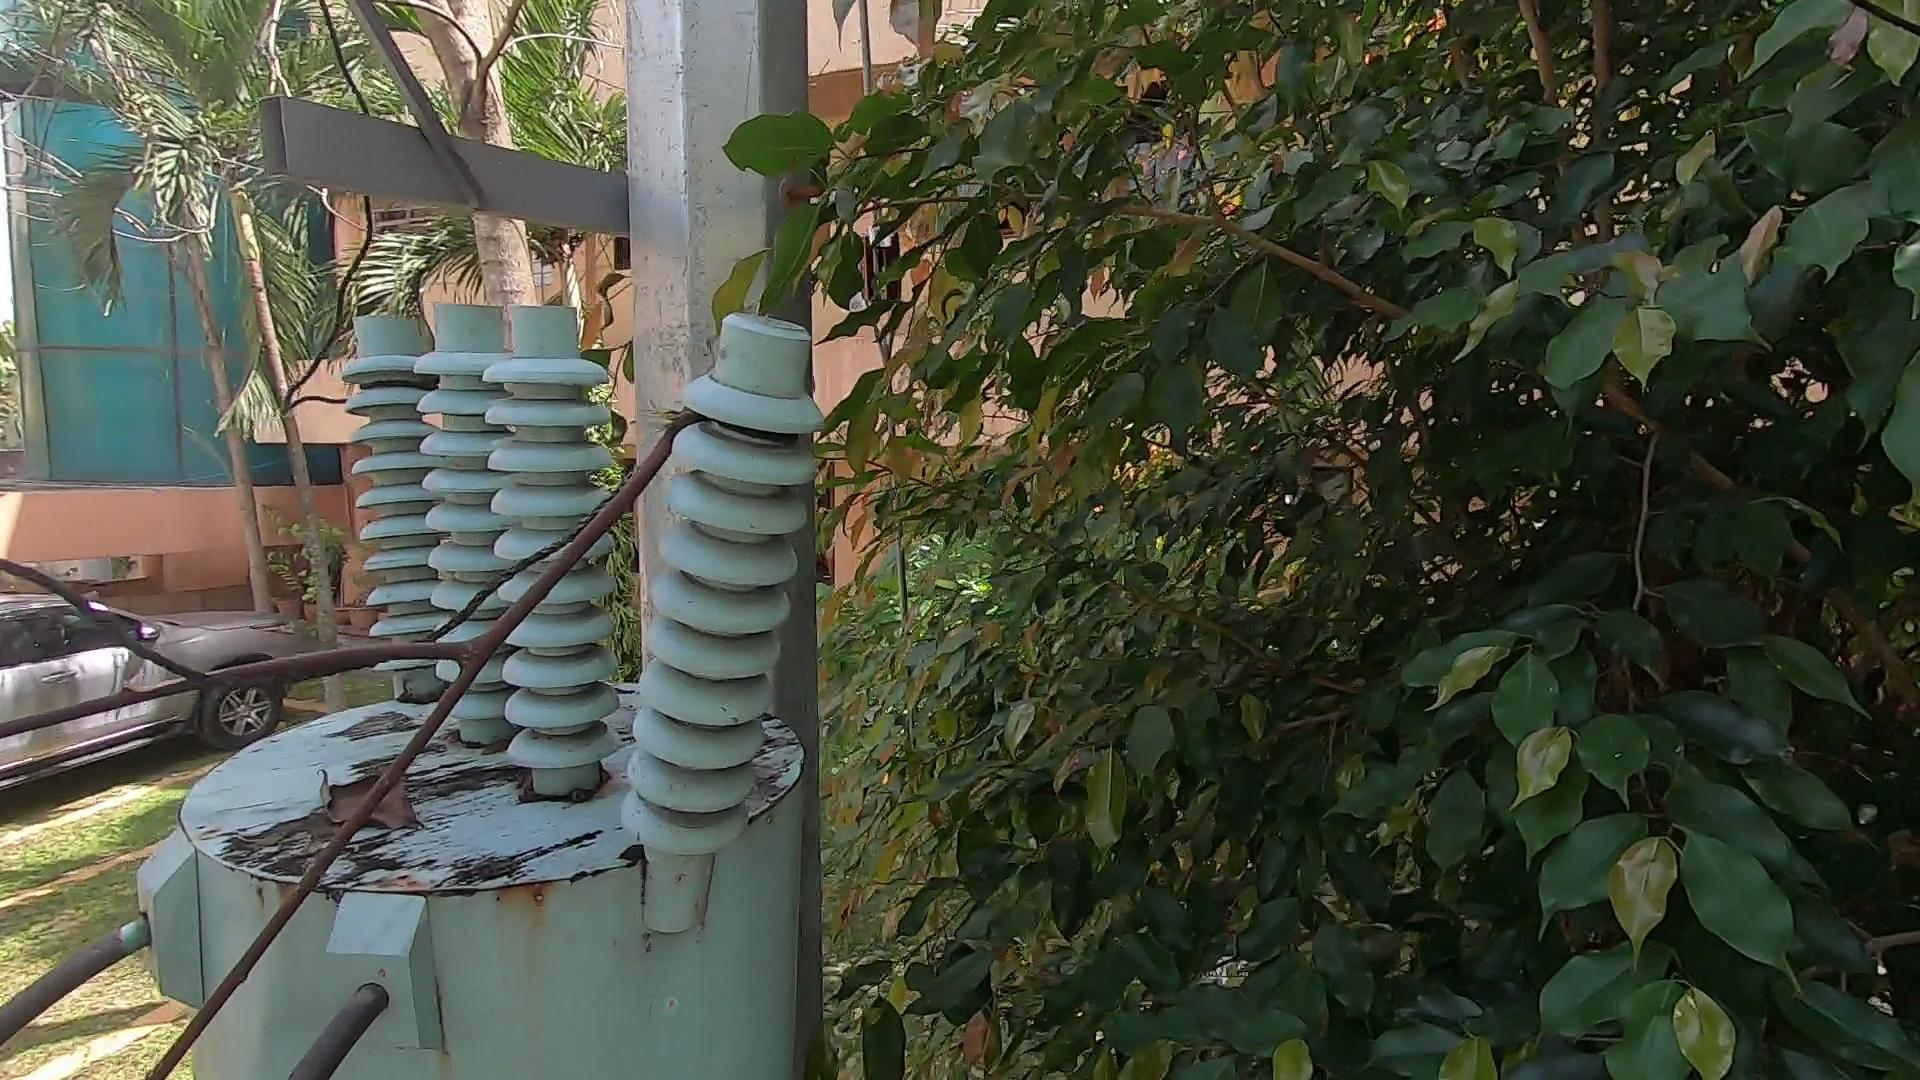leaf: (291, 760, 429, 844)
tree branch: (7, 409, 770, 1077)
